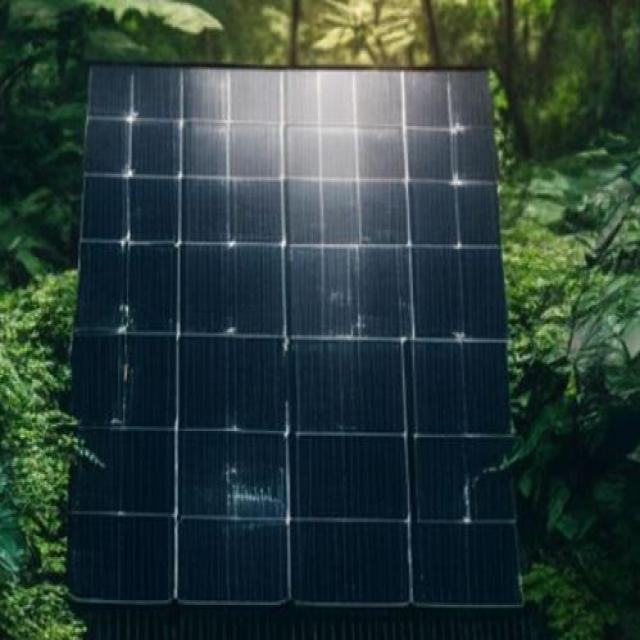faulty: (83, 68, 510, 618)
